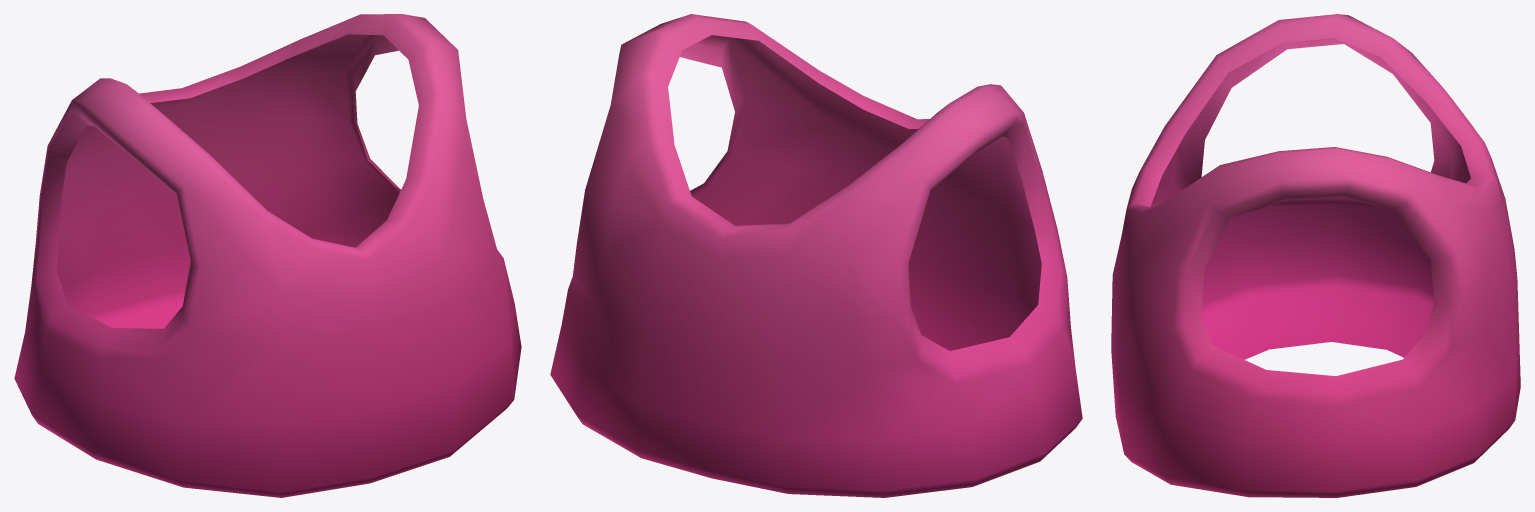
File: Outwear_18.glb
3 renders of one model, left to right at view 1: azimuth 30°, elevation 25°; view 2: azimuth 150°, elevation 25°; view 3: azimuth 270°, elevation 25°, orthographic. The views are drawn at different scales.
Parts seen in each view (by area): view 1: Outwear_18; view 2: Outwear_18; view 3: Outwear_18.
Part boxes in pixels (x1=…): Outwear_18: x1=14, y1=14, x2=521, y2=497; Outwear_18: x1=550, y1=14, x2=1082, y2=497; Outwear_18: x1=1111, y1=14, x2=1520, y2=497.
Size of the model in its own units: 0.2474 by 0.1909 by 0.1987.
1 material, 1 textured.
